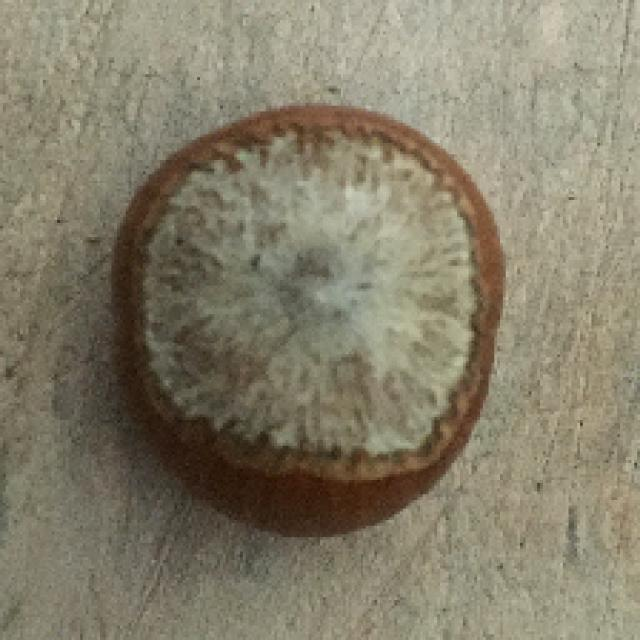qualityHazelnut: (110, 105, 505, 532)
